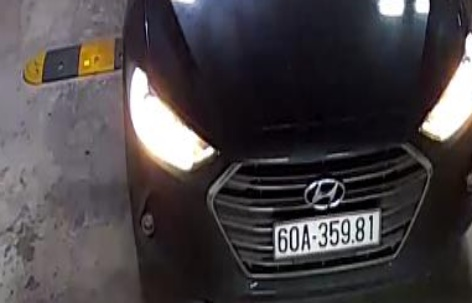plate: (271, 204, 380, 262)
